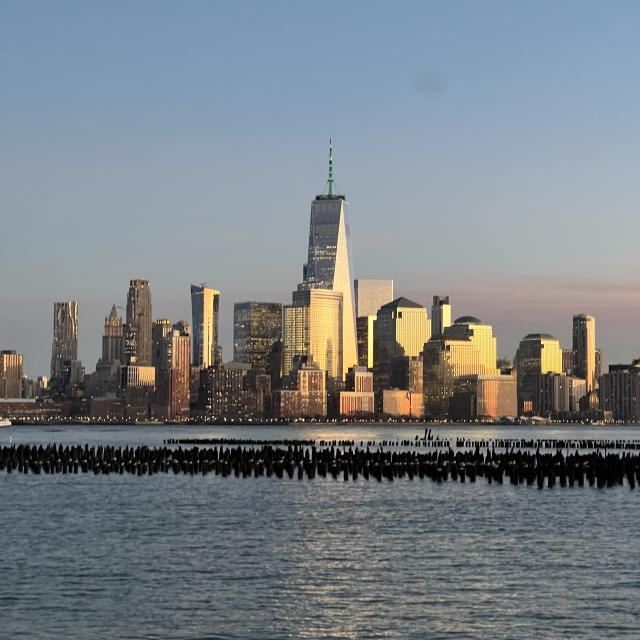WTC: (304, 137, 352, 291)
